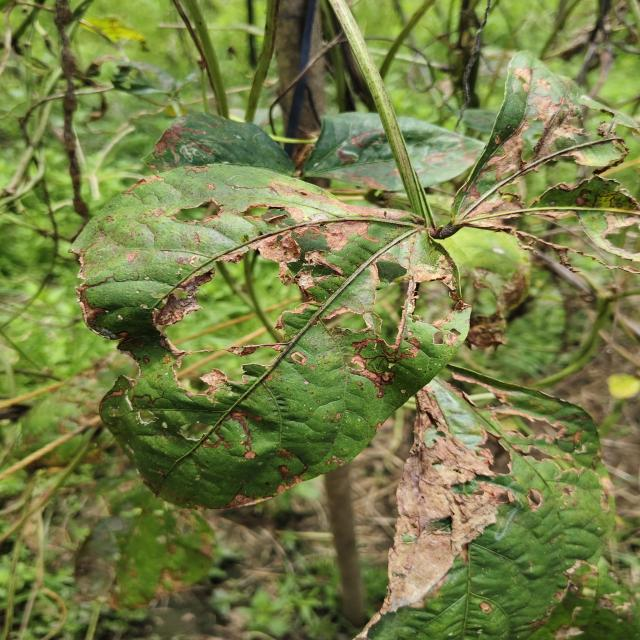leaf-moderate: (74, 153, 613, 589), (355, 365, 638, 640), (28, 461, 346, 640), (465, 52, 640, 262), (50, 489, 51, 495), (86, 104, 91, 105), (504, 30, 508, 30)
